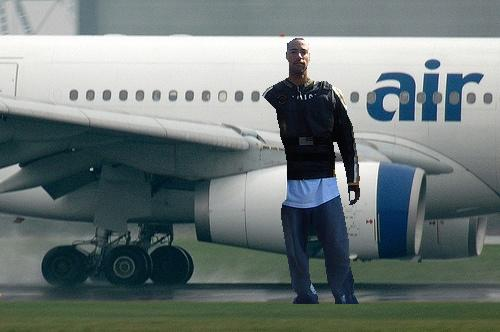tampered: (263, 39, 360, 304)
